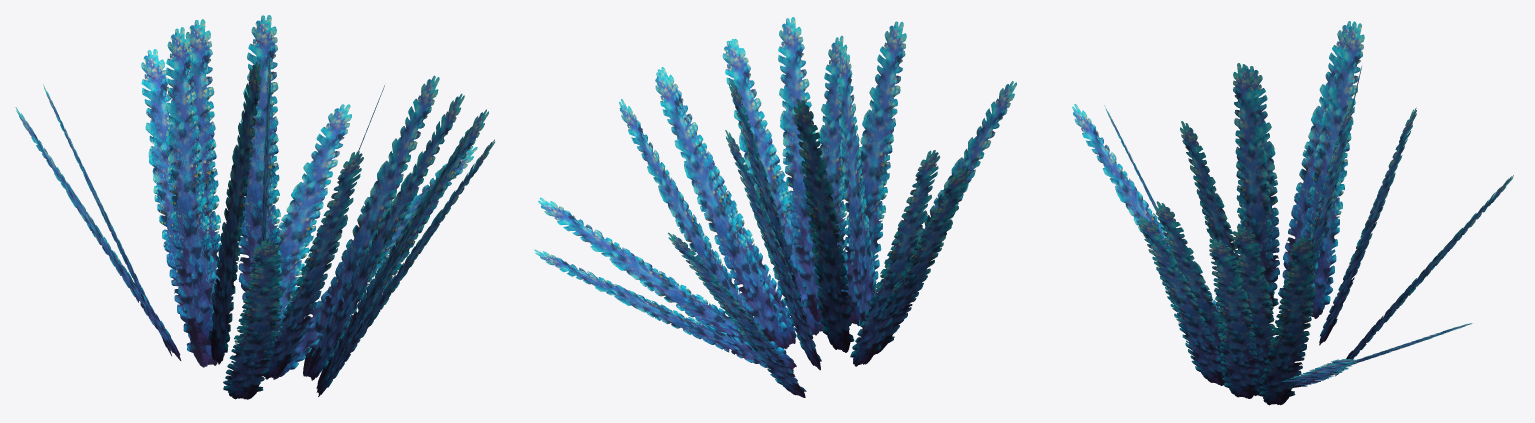
The model's file is acropora TRY.fbx.
3 views of the same model, side by side, from view 1: azimuth 30°, elevation 25°; view 2: azimuth 150°, elevation 25°; view 3: azimuth 270°, elevation 25° (orthographic). The views are drawn at different scales.
Visible parts, largest first — view 1: ACROPORA TRY; view 2: ACROPORA TRY; view 3: ACROPORA TRY.
Boxes of the visible parts, bbox=[...] form: ACROPORA TRY: bbox=[15, 15, 495, 399]; ACROPORA TRY: bbox=[534, 17, 1016, 397]; ACROPORA TRY: bbox=[1072, 21, 1513, 405].
Bounding box in the file's own units: 165 × 117 × 152.
Materials: 1 (1 with a texture image).
